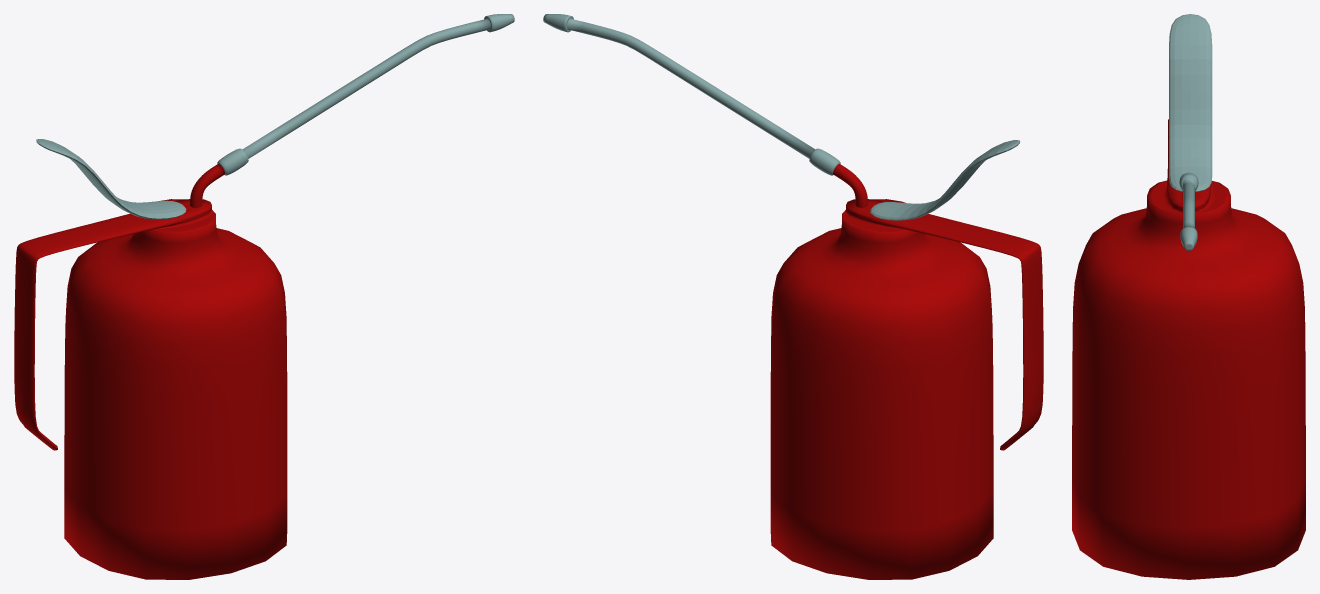
Rendered from oiler.obj.
3 views of the same model, side by side, from view 1: azimuth 30°, elevation 25°; view 2: azimuth 150°, elevation 25°; view 3: azimuth 270°, elevation 25° (orthographic). The views are drawn at different scales.
Parts seen in each view (by area): view 1: Oiler_Cube.1471; view 2: Oiler_Cube.1471; view 3: Oiler_Cube.1471.
Part boxes in pixels (x1,y1,x2,y2): Oiler_Cube.1471: (14,14,514,579); Oiler_Cube.1471: (543,14,1043,579); Oiler_Cube.1471: (1072,14,1305,579).
Bounding box in the file's own units: 2.08 × 1.78 × 0.81.
